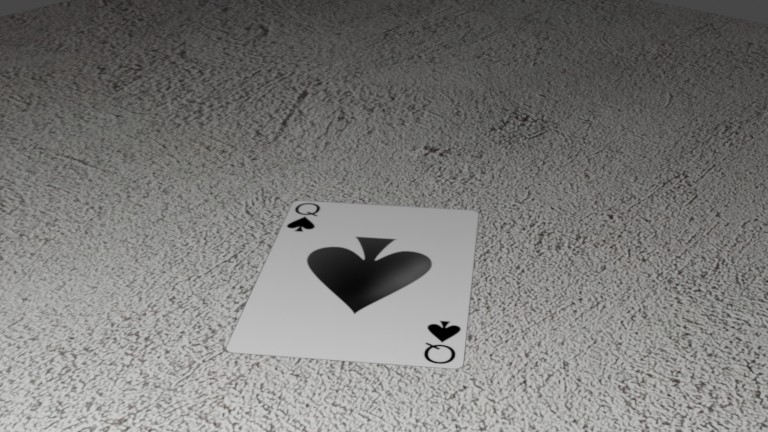queen_of_spades: (416, 319, 465, 366), (281, 202, 328, 233)
